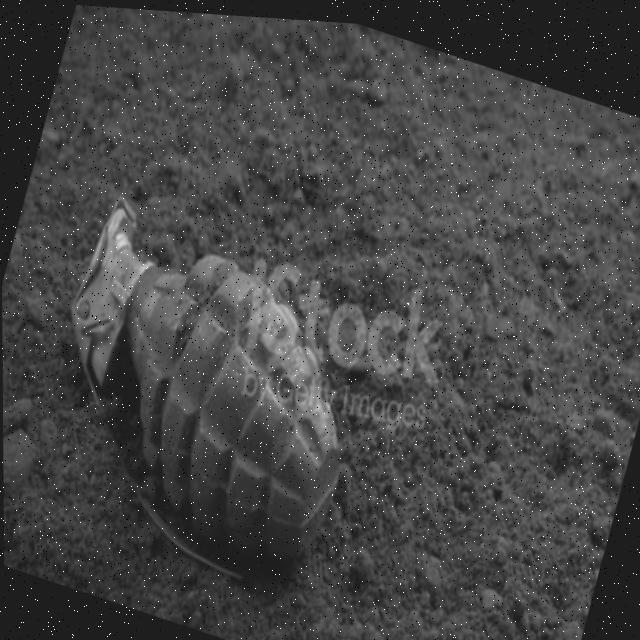grenade: (1, 147, 416, 636)
